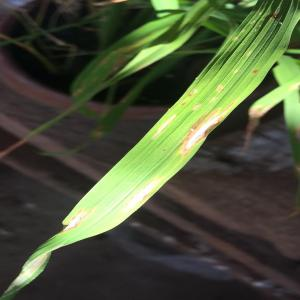Rice_Blast: (176, 100, 232, 153)
